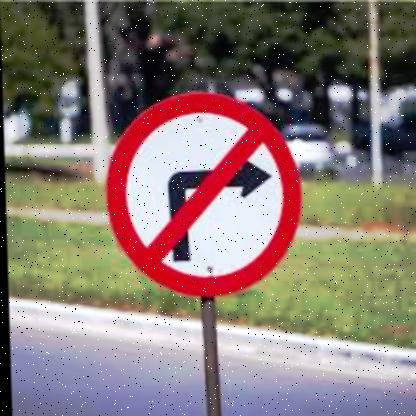No right turn: (98, 88, 299, 300)
